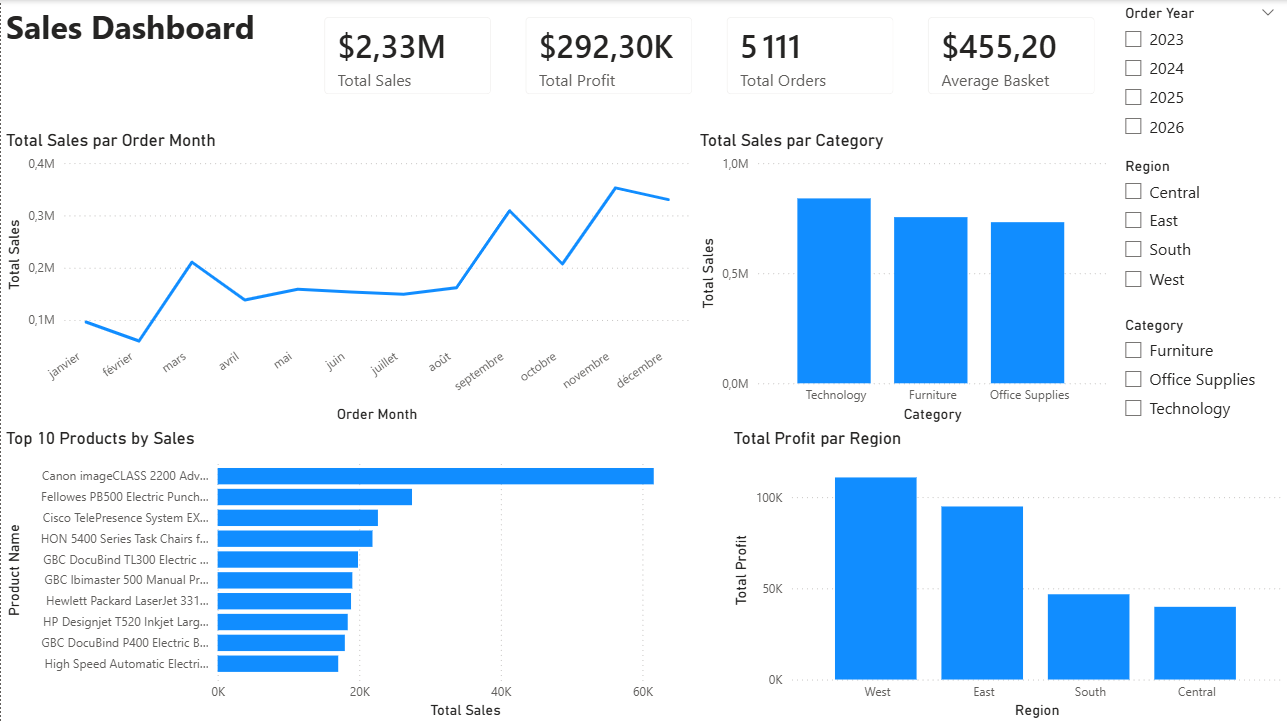

What the dashboard file says about the page in this screenshot:
{"tool":"powerbi","page":{"name":"Sales Dashboard","canvas":[1280,720],"ordinal":0},"visuals":[{"type":"cardVisual","fields":{"Data":["Orders.Total Sales"]},"box":[304.8,0,200.3,112],"z":0},{"type":"cardVisual","fields":{"Data":["Orders.Total Profit"]},"box":[505,0,200.3,112],"z":1},{"type":"cardVisual","fields":{"Data":["Orders.Total Orders"]},"box":[705.3,0,200.3,112],"z":2},{"type":"cardVisual","fields":{"Data":["Orders.Average Basket"]},"box":[905.6,0,200.3,112],"z":3},{"type":"lineChart","fields":{"Y":["Orders.Total Sales"],"Category":["Orders.Order Month"]},"box":[0,129.4,690.4,296.1],"z":4},{"type":"clusteredColumnChart","fields":{"Y":["Orders.Total Sales"],"Category":["Orders.Category"]},"box":[690.4,129.4,415.5,296.1],"z":5},{"type":"clusteredBarChart","title":"Top 10 Products by Sales","fields":{"Y":["Orders.Total Sales"],"Category":["Orders.Product Name"]},"box":[0,425.4,724,294.8],"z":6},{"type":"clusteredColumnChart","fields":{"Y":["Orders.Total Profit"],"Category":["Orders.Region"]},"box":[724,425.4,556,294.8],"z":7},{"type":"slicer","fields":{"Values":["Orders.Order Year"]},"box":[1105.9,0,174.2,151.8],"z":8},{"type":"slicer","fields":{"Values":["Orders.Region"]},"box":[1105.9,151.8,174.2,151.8],"z":9},{"type":"slicer","fields":{"Values":["Orders.Category"]},"box":[1105.9,309.7,174.2,115.7],"z":10},{"type":"textbox","box":[0,0,304.8,112],"z":11}]}

Visuals, with their boxes in screenshot pixels (x1, y1, x2, y2), scaled from the page's 1280x720 canvas onto the 1287x722 screenshot:
cardVisual - Orders.Total Sales: left=306, top=0, right=508, bottom=112
cardVisual - Orders.Total Profit: left=508, top=0, right=709, bottom=112
cardVisual - Orders.Total Orders: left=709, top=0, right=911, bottom=112
cardVisual - Orders.Average Basket: left=911, top=0, right=1112, bottom=112
lineChart - Orders.Total Sales x Orders.Order Month: left=0, top=130, right=694, bottom=427
clusteredColumnChart - Orders.Total Sales x Orders.Category: left=694, top=130, right=1112, bottom=427
"Top 10 Products by Sales" clusteredBarChart: left=0, top=427, right=728, bottom=721
clusteredColumnChart - Orders.Total Profit x Orders.Region: left=728, top=427, right=1286, bottom=721
slicer - Orders.Order Year: left=1112, top=0, right=1286, bottom=152
slicer - Orders.Region: left=1112, top=152, right=1286, bottom=304
slicer - Orders.Category: left=1112, top=311, right=1286, bottom=427
textbox: left=0, top=0, right=306, bottom=112
